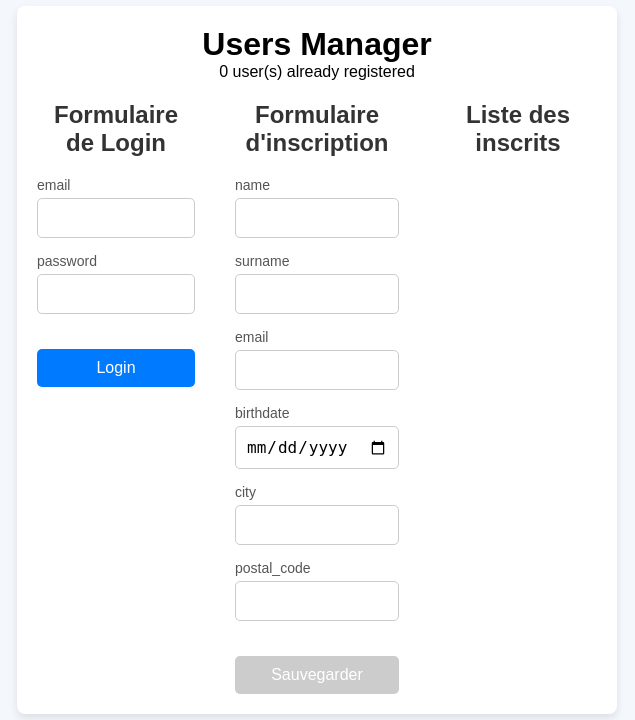
it: Connexion administrateur › affiche un message d’erreur si les identifiants sont incorrects
Type "admin@test.com" into the field with id "email" at [116, 218], box [37, 198, 195, 238]
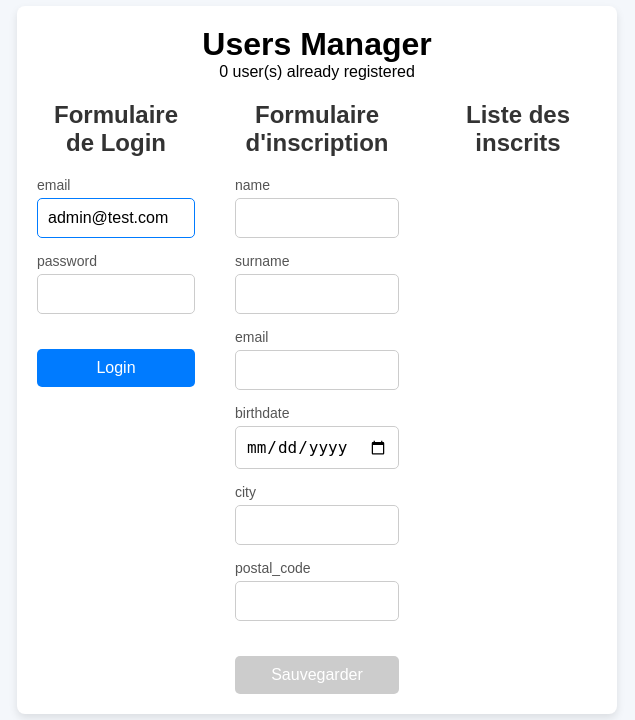
Type "admin123" into the password field labelled "password" at [116, 294], box [37, 274, 195, 314]
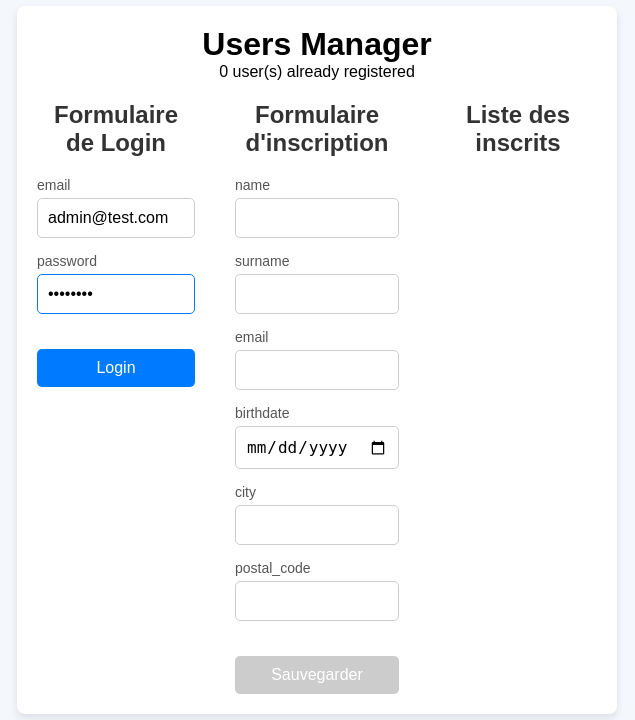
Click the button "Login" at [116, 368], box [37, 349, 195, 387]
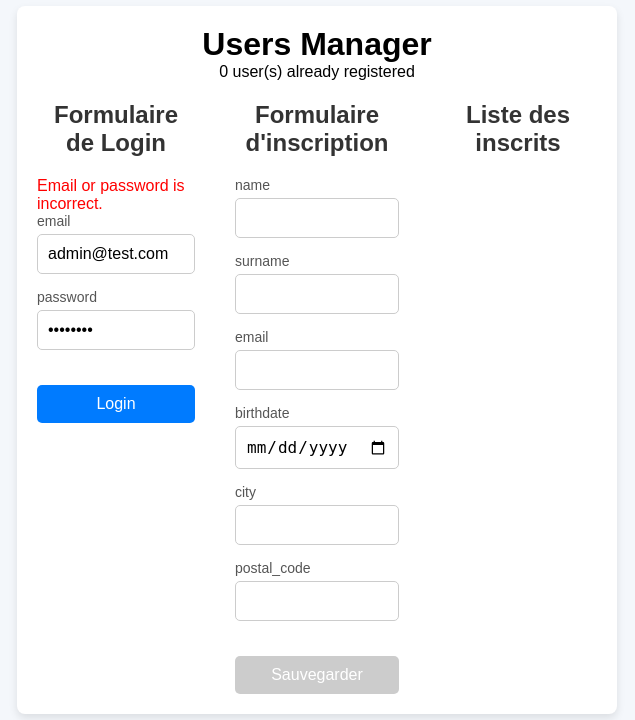
Result: the text "Email or password is incorrect." is shown at [37, 177, 195, 213]
